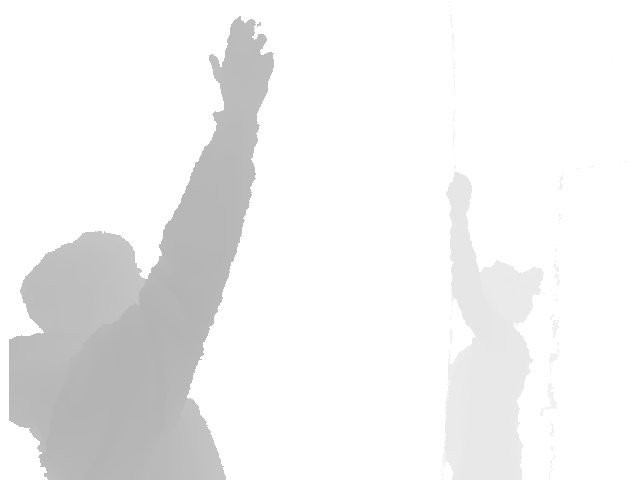hand: (207, 15, 275, 119), (445, 172, 473, 214)
head: (20, 230, 160, 342), (475, 259, 544, 328)
person: (9, 14, 276, 480), (442, 172, 545, 480)
